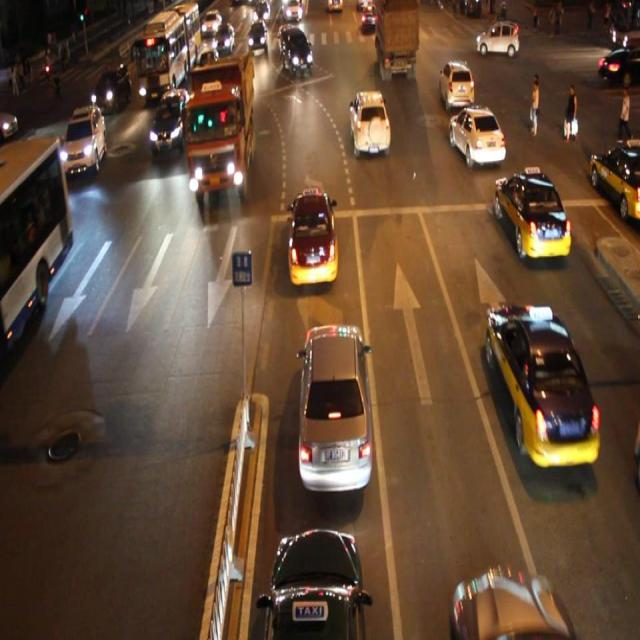bus: (187, 54, 253, 197), (374, 1, 417, 81)
car: (485, 301, 598, 466), (297, 319, 373, 495), (260, 526, 367, 640), (447, 564, 572, 640), (494, 169, 570, 258), (287, 188, 339, 284), (447, 103, 504, 168), (63, 104, 107, 176), (147, 88, 190, 154), (349, 90, 390, 154), (92, 63, 133, 117), (438, 60, 473, 112), (280, 28, 314, 75)
van: (0, 134, 74, 350), (135, 2, 197, 98)
